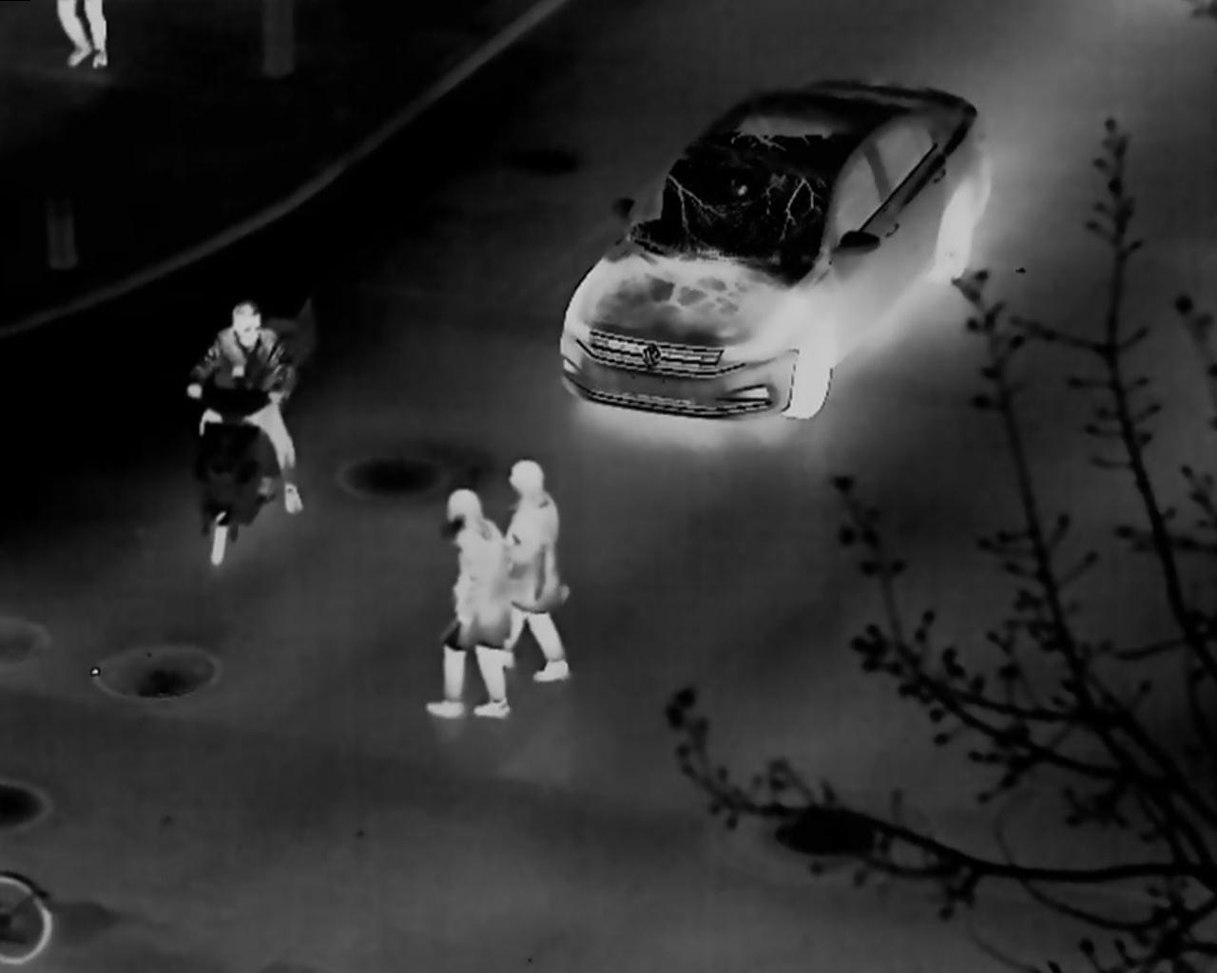person: (187, 301, 299, 515), (423, 488, 518, 718), (501, 457, 570, 684)
